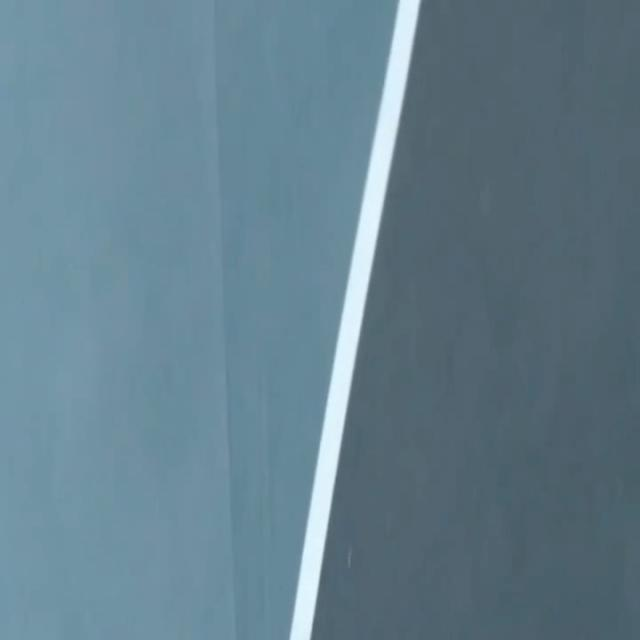left: (289, 0, 420, 639)
